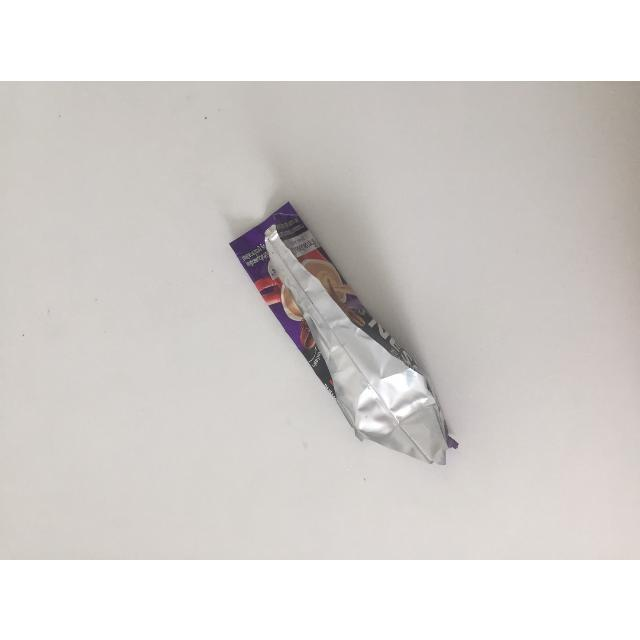Paquete de plastico: (213, 192, 483, 473)
